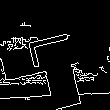L_E: (27, 34, 83, 76)
